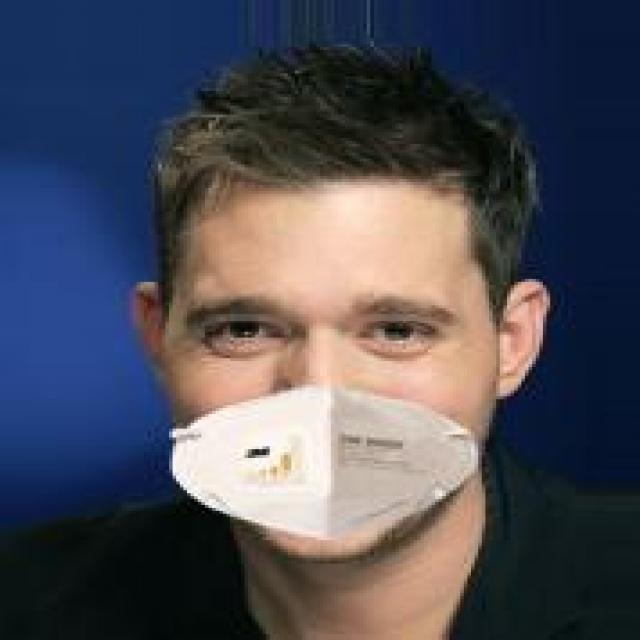mask: (130, 82, 576, 581)
